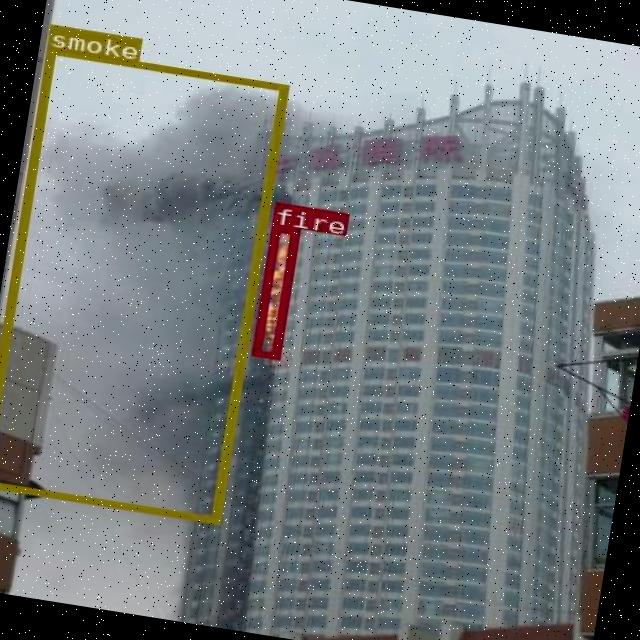fire: (251, 223, 298, 358)
smoke: (0, 45, 288, 522)
